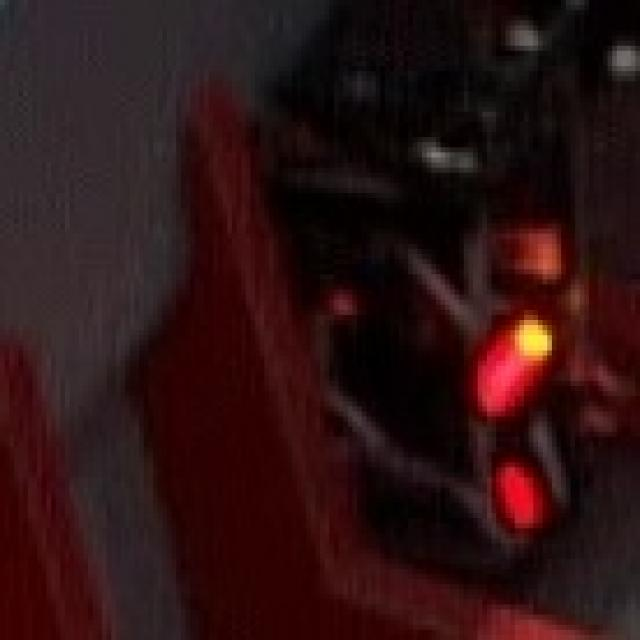R1: (501, 406, 589, 528)
